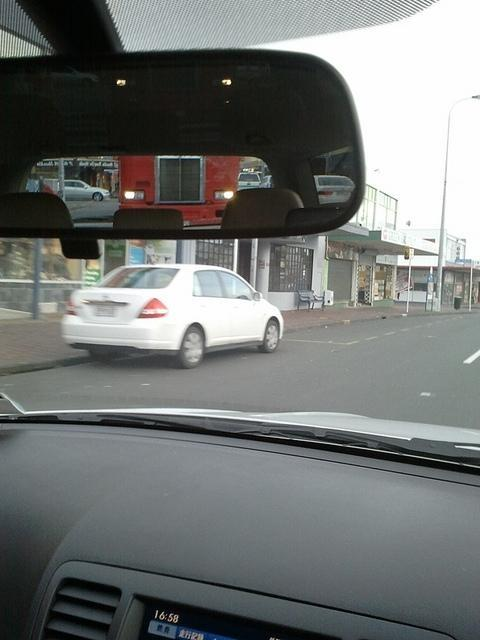car: (0, 407, 480, 630), (58, 262, 287, 370), (314, 174, 354, 205)
